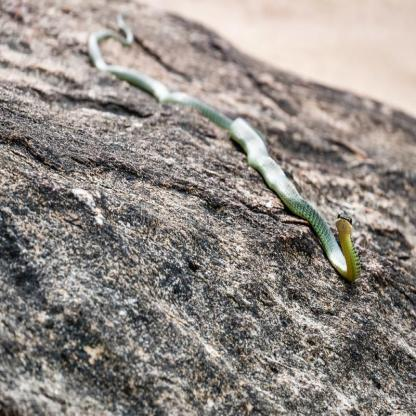Snake: (87, 29, 361, 284)
